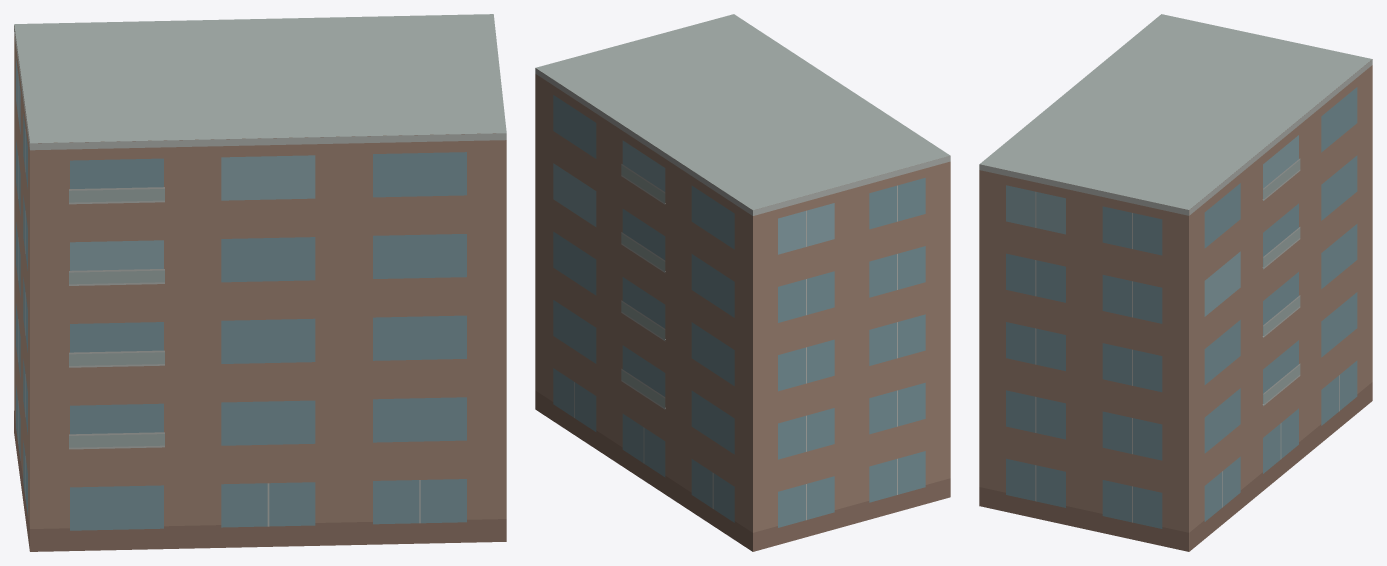
File: survey-upis-32893424.glb
3 renders of one model, left to right at view 1: azimuth 30°, elevation 25°; view 2: azimuth 150°, elevation 25°; view 3: azimuth 270°, elevation 25°, orthographic. The views are drawn at different scales.
Visible parts, largest first — view 1: survey-upis-32893424.tmp; view 2: survey-upis-32893424.tmp; view 3: survey-upis-32893424.tmp.
Boxes of the visible parts, left/top/right/bottom form: survey-upis-32893424.tmp: left=14, top=14, right=506, bottom=551; survey-upis-32893424.tmp: left=535, top=14, right=950, bottom=551; survey-upis-32893424.tmp: left=979, top=14, right=1372, bottom=551.
Bounding box in the file's own units: 17.6 × 14.3 × 14.91.
